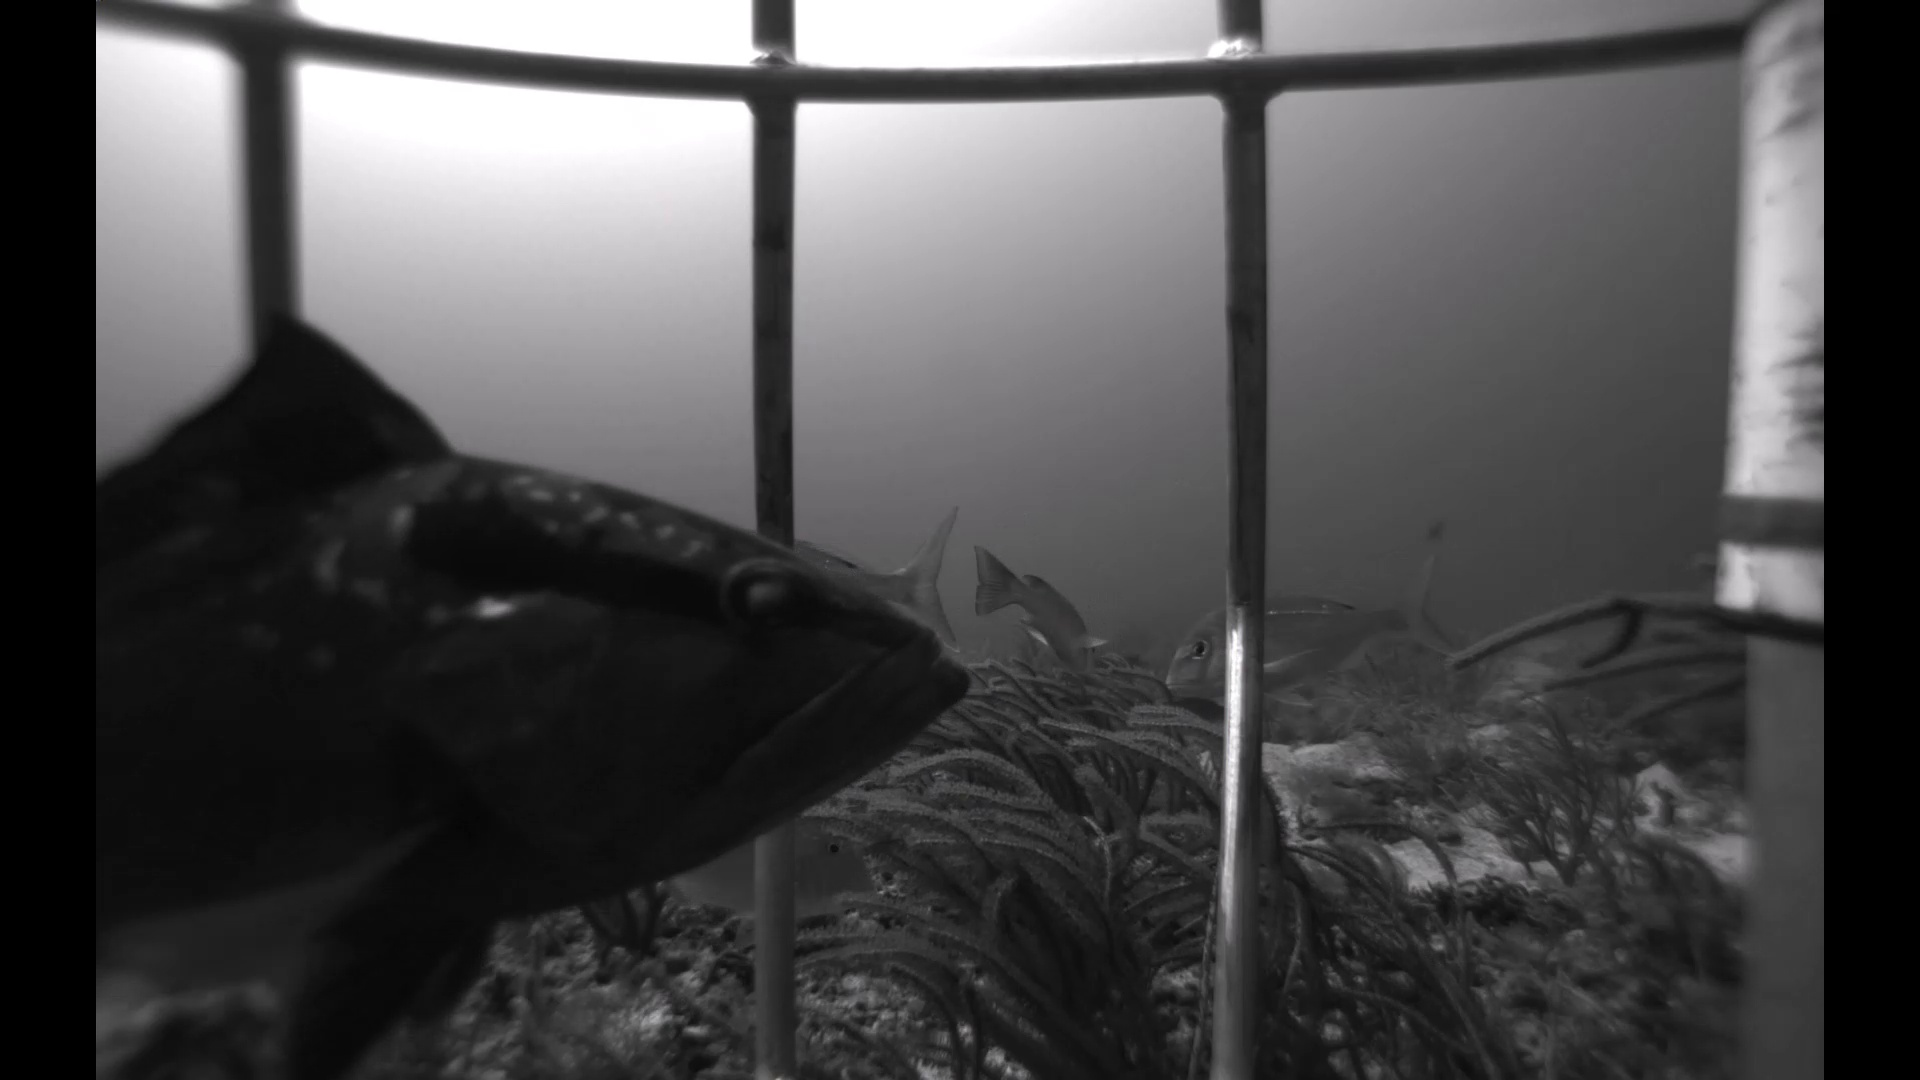CALAMUSNODOSUS-170210608: (647, 811, 884, 942)
EPINEPHELUSMORIO-170021211: (111, 303, 1005, 1080)
LUTJANUSGRISEUS-170151109: (965, 541, 1117, 680), (1155, 688, 1273, 754)
PAGRUSPAGRUS-170212302: (1145, 539, 1462, 713), (796, 498, 971, 640)
